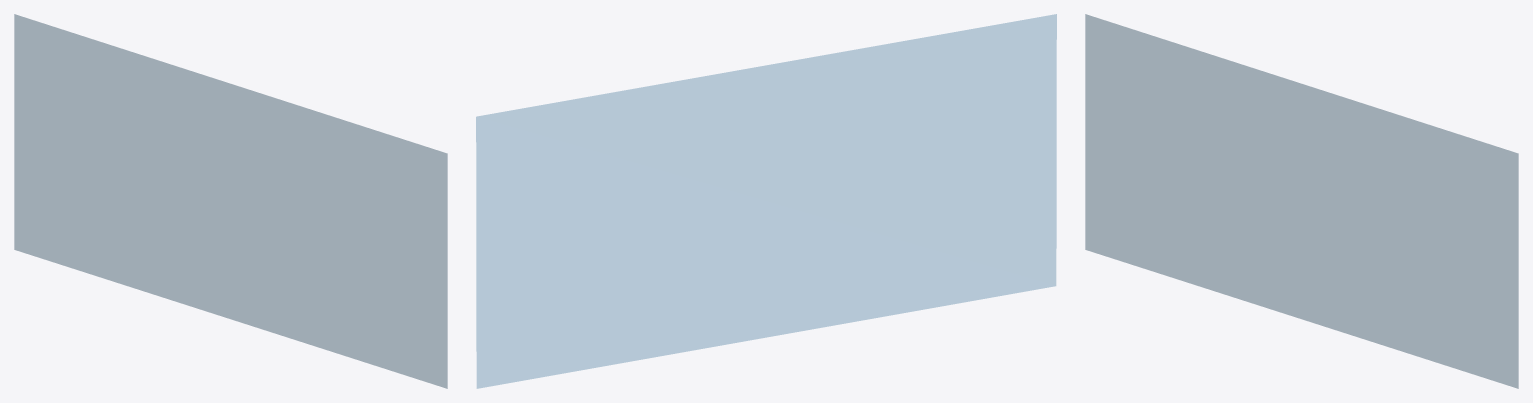
The model's file is p5_orto.glb.
The picture shows the model from 3 angles, left to right: view 1: azimuth 90°, elevation 25°; view 2: azimuth 150°, elevation 25°; view 3: azimuth 270°, elevation 25°; orthographic projection. The views are drawn at different scales.
Bounding box in the file's own units: 7.62 × 6 × 10.
